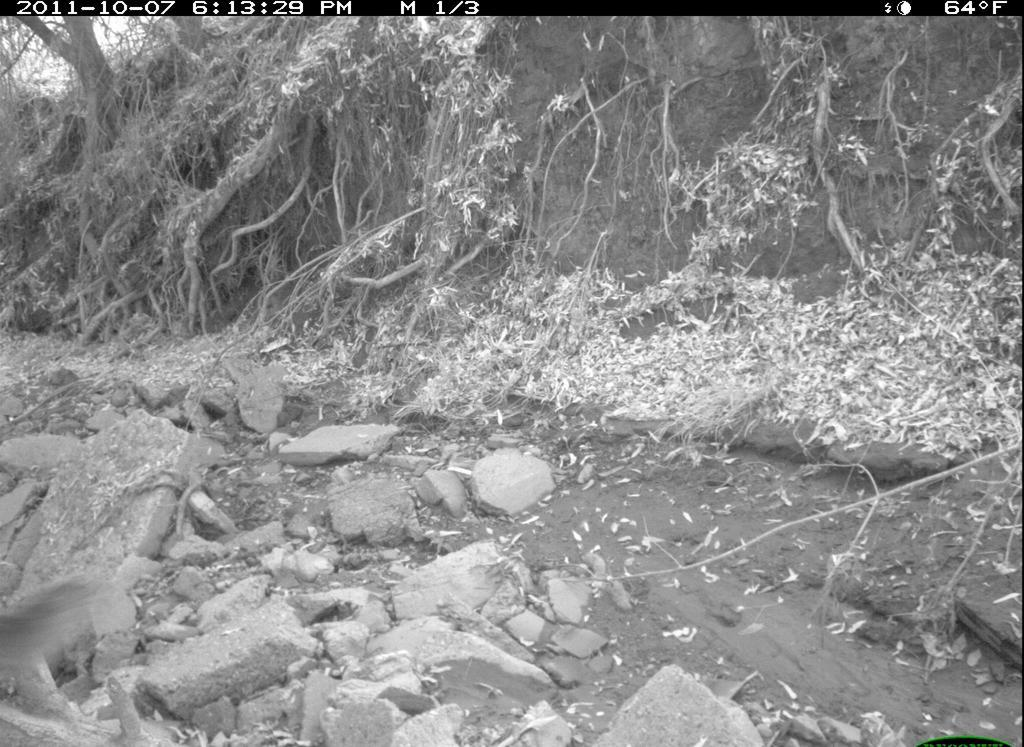squirrel: (1, 553, 177, 699)
